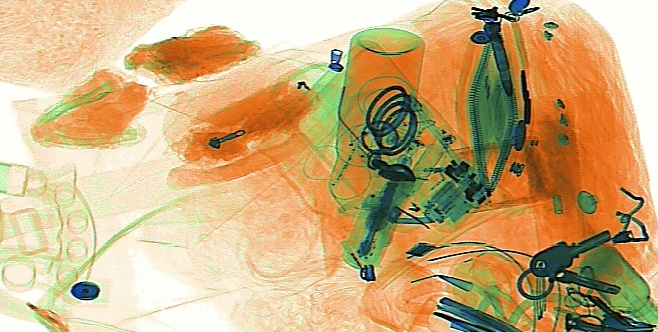pressure: (327, 25, 425, 220)
